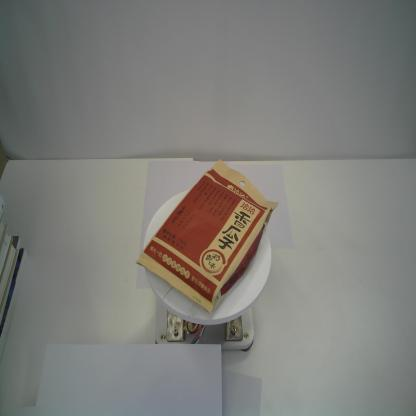Dried Food: (134, 159, 279, 313)
